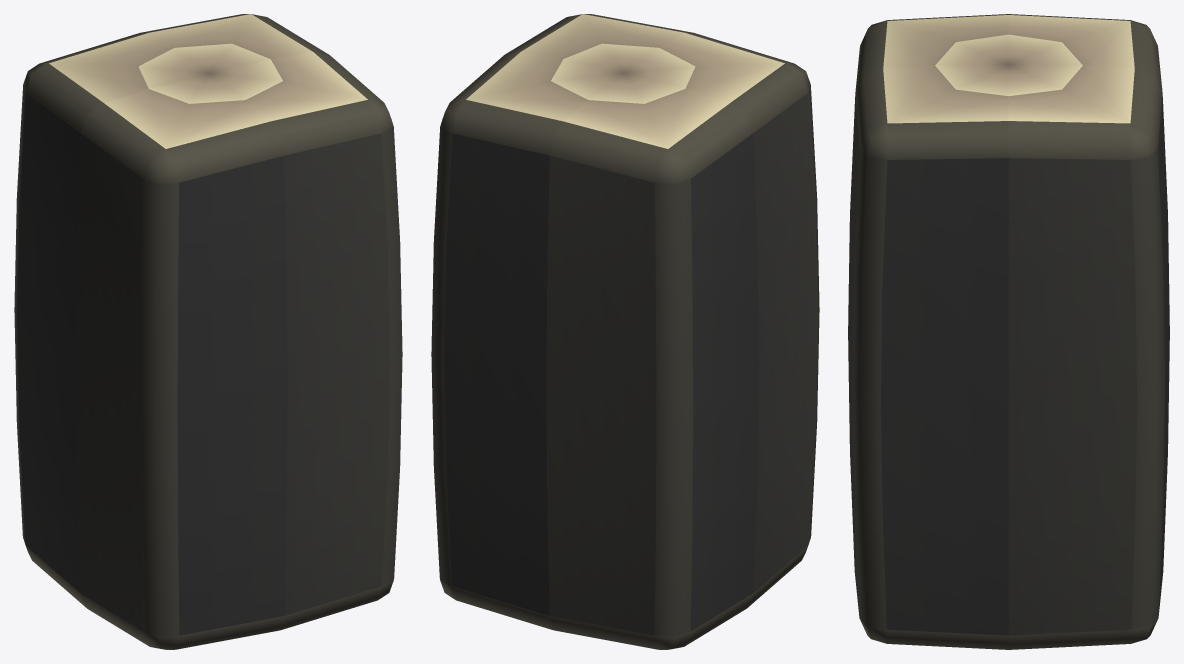
The model's file is ColdWood_Branch_Straight.fbx.
3 renders of one model, left to right at view 1: azimuth 30°, elevation 25°; view 2: azimuth 150°, elevation 25°; view 3: azimuth 270°, elevation 25°, orthographic. The views are drawn at different scales.
Visible parts, largest first — view 1: ColdWood_Branch_Straight_LOD0; view 2: ColdWood_Branch_Straight_LOD0; view 3: ColdWood_Branch_Straight_LOD0.
Part boxes in pixels (bbox=[...]): ColdWood_Branch_Straight_LOD0: bbox=[14, 14, 402, 649]; ColdWood_Branch_Straight_LOD0: bbox=[431, 14, 819, 649]; ColdWood_Branch_Straight_LOD0: bbox=[848, 14, 1169, 649].
Size of what is drawn, in the model's own units: 0.5826 by 1.08 by 0.5858.
